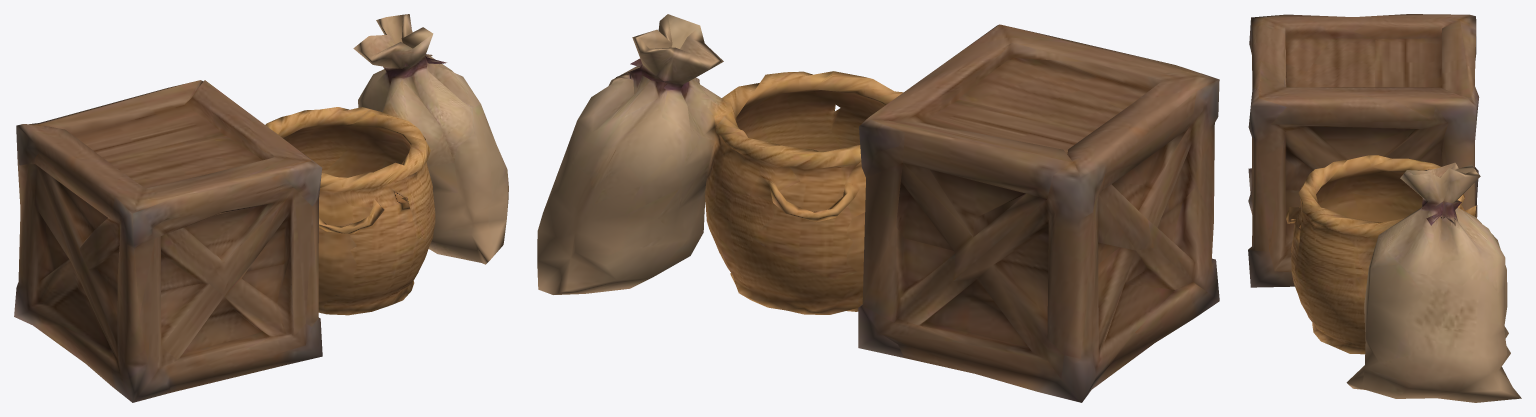
File: crate_basket_set.glb
The picture shows the model from 3 angles, left to right: view 1: azimuth 30°, elevation 25°; view 2: azimuth 150°, elevation 25°; view 3: azimuth 270°, elevation 25°; orthographic projection. The views are drawn at different scales.
Visible parts, largest first — view 1: tripo_node_239e1cfc-db8c-4233-bdee-1ad1f73b6582; view 2: tripo_node_239e1cfc-db8c-4233-bdee-1ad1f73b6582; view 3: tripo_node_239e1cfc-db8c-4233-bdee-1ad1f73b6582.
Boxes of the visible parts, x1=… form: tripo_node_239e1cfc-db8c-4233-bdee-1ad1f73b6582: x1=14, y1=14, x2=508, y2=402; tripo_node_239e1cfc-db8c-4233-bdee-1ad1f73b6582: x1=537, y1=14, x2=1219, y2=402; tripo_node_239e1cfc-db8c-4233-bdee-1ad1f73b6582: x1=1248, y1=14, x2=1521, y2=402.
Size of the model in its own units: 0.9773 by 0.4343 by 0.5179.
1 material, 1 textured.
